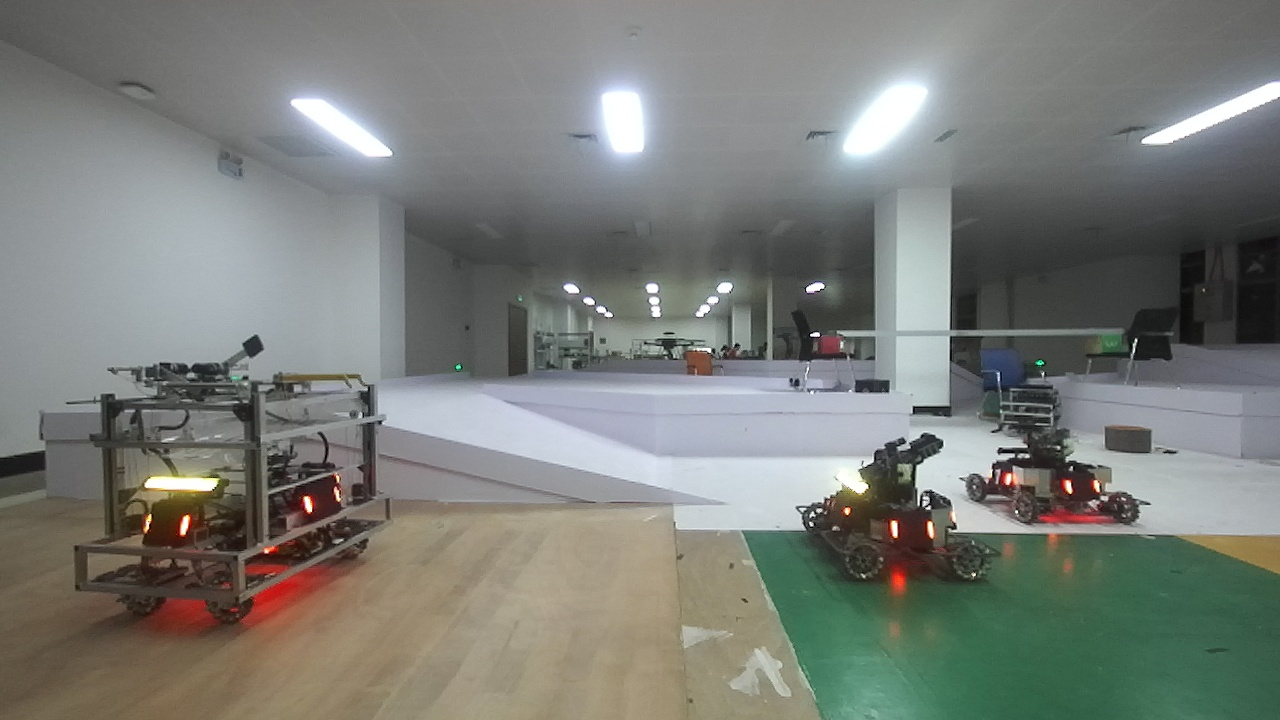car: (74, 335, 383, 623), (789, 437, 986, 584), (962, 422, 1151, 535)
